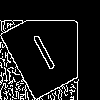I: (25, 25, 59, 72)
